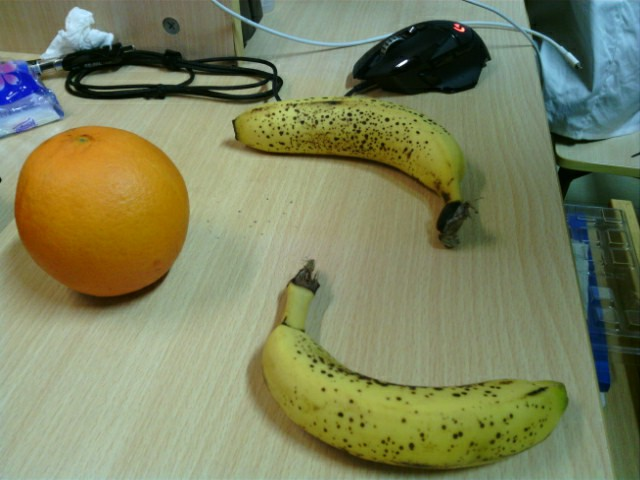normal_banana: (263, 259, 571, 471), (231, 97, 480, 251)
normal_orange: (15, 125, 191, 296)
